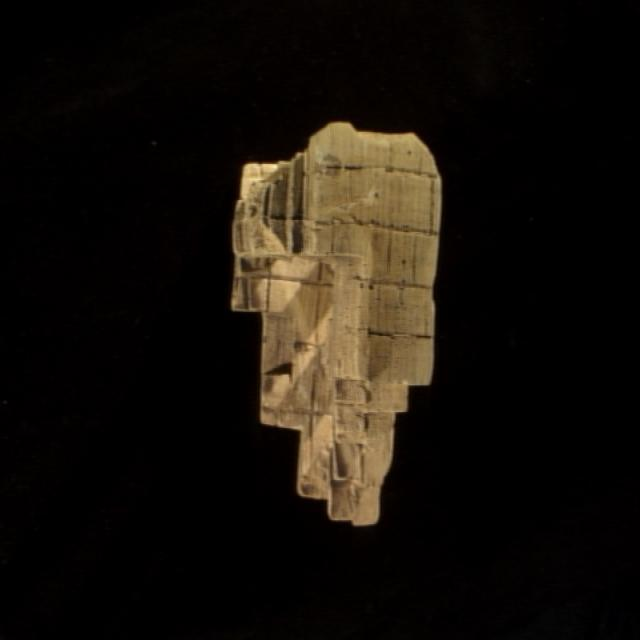Instance-Segmentation: (231, 123, 440, 524)
